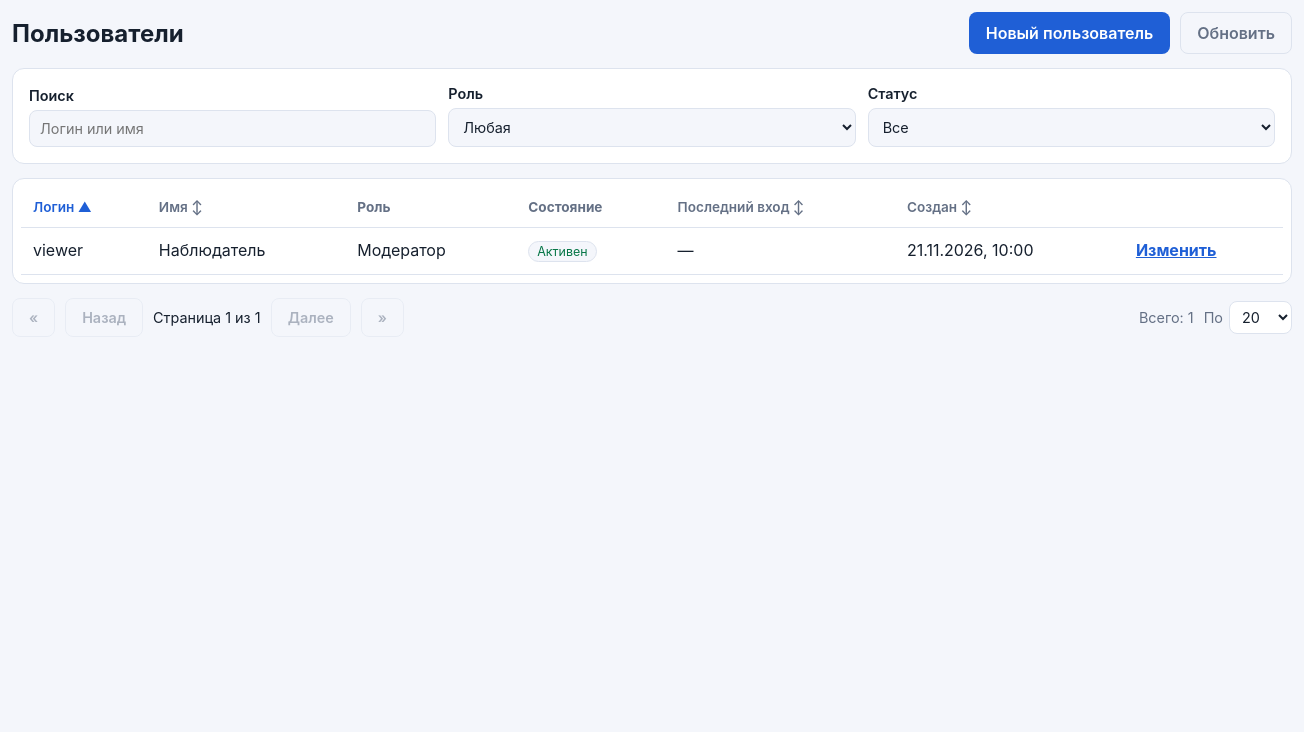
Test: после конфликта перечитывает пользователя и сохраняет с актуальной версией
Click the button "Изменить" at (1176, 250), box [1136,240,1216,260]
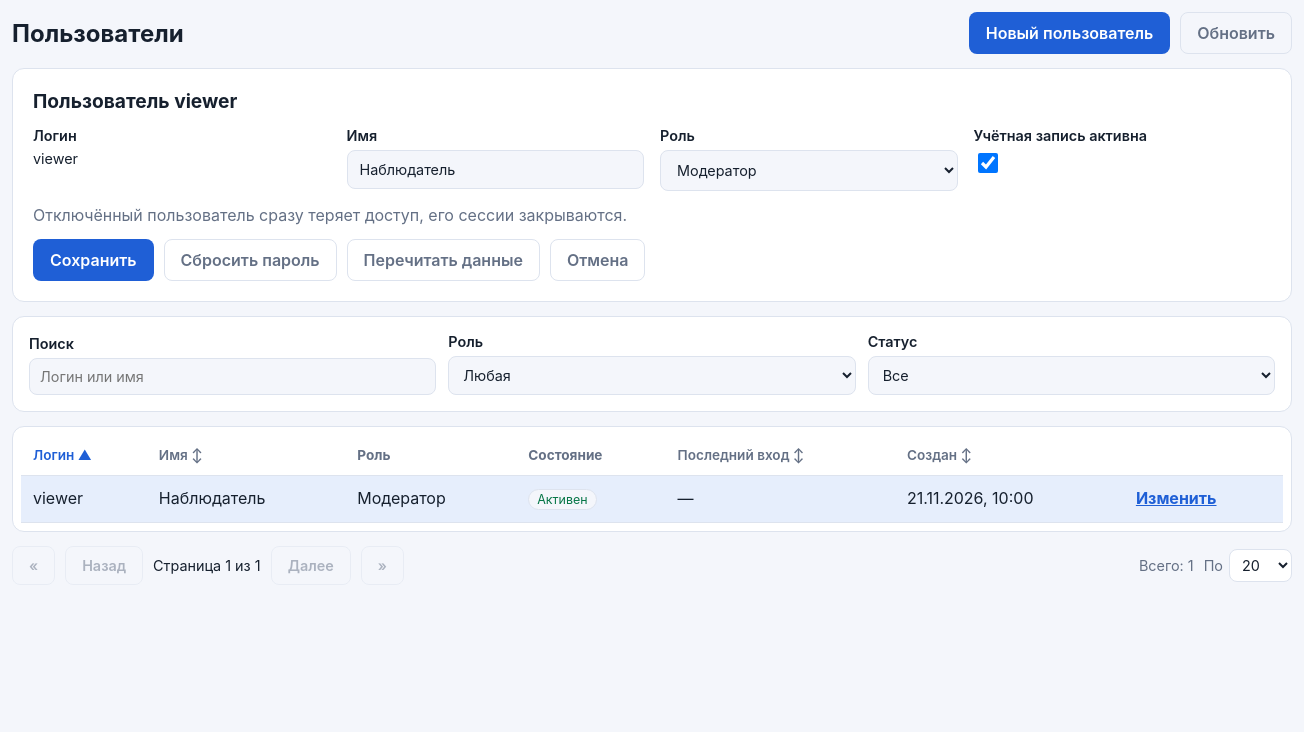
Submit the form, box [12,68,1292,302]
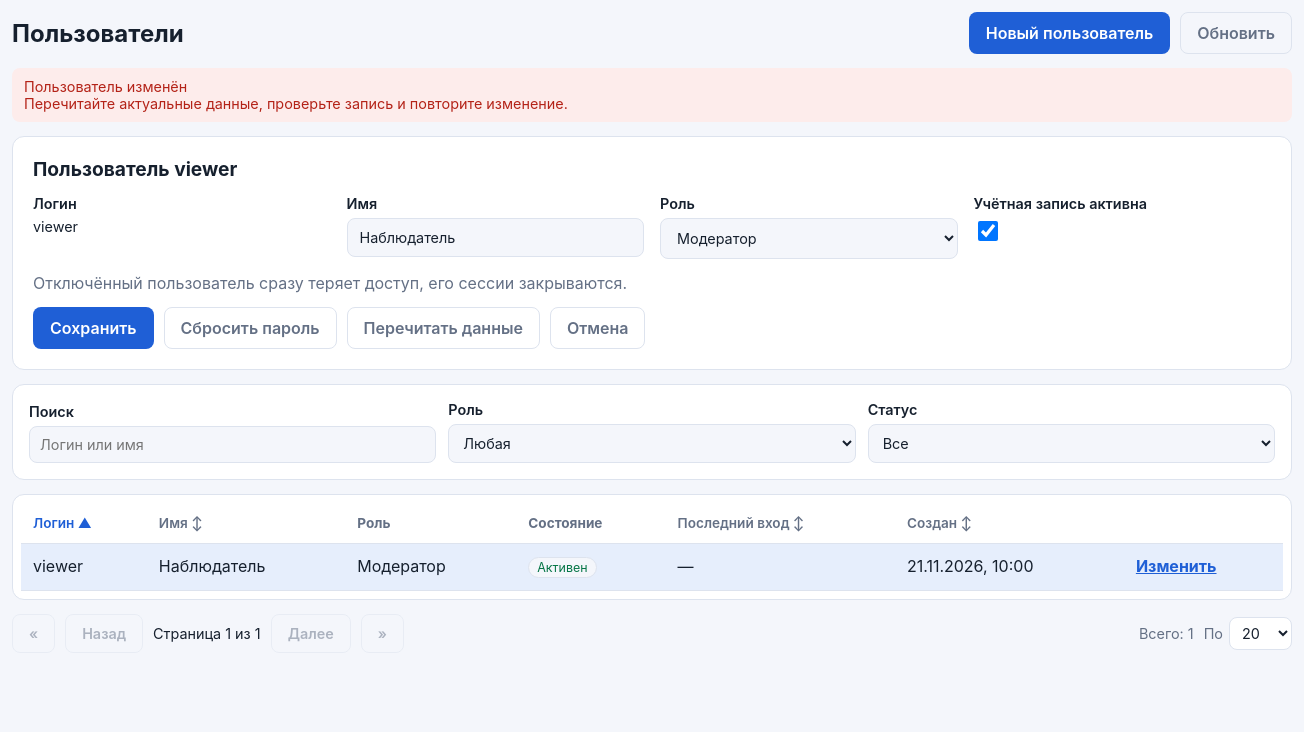
Expected: the message shows "Пользователь изменён", [24,78,187,95]
Click the button "Перечитать данные" at (443, 328), box [347,307,540,349]
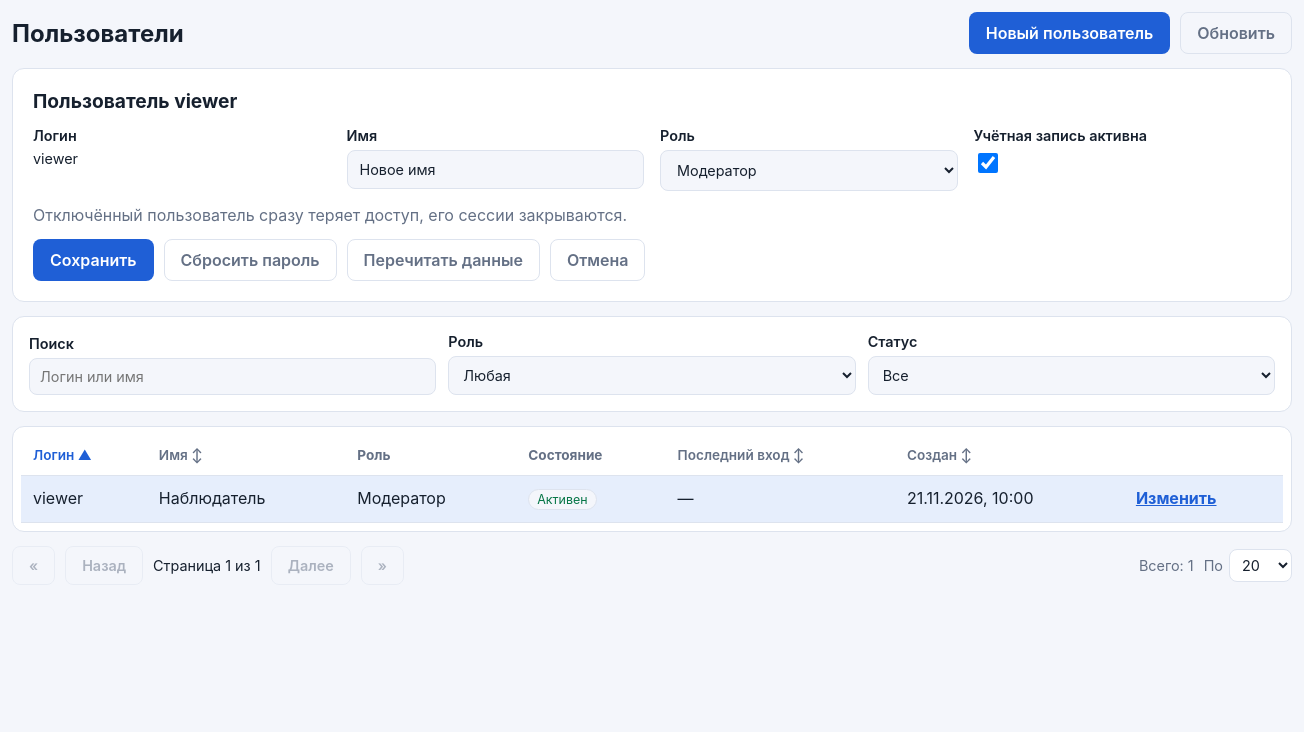
Expected: the field labelled "Имя" holds "Новое имя", [346,150,644,189]
Submit the form, box [12,68,1292,302]
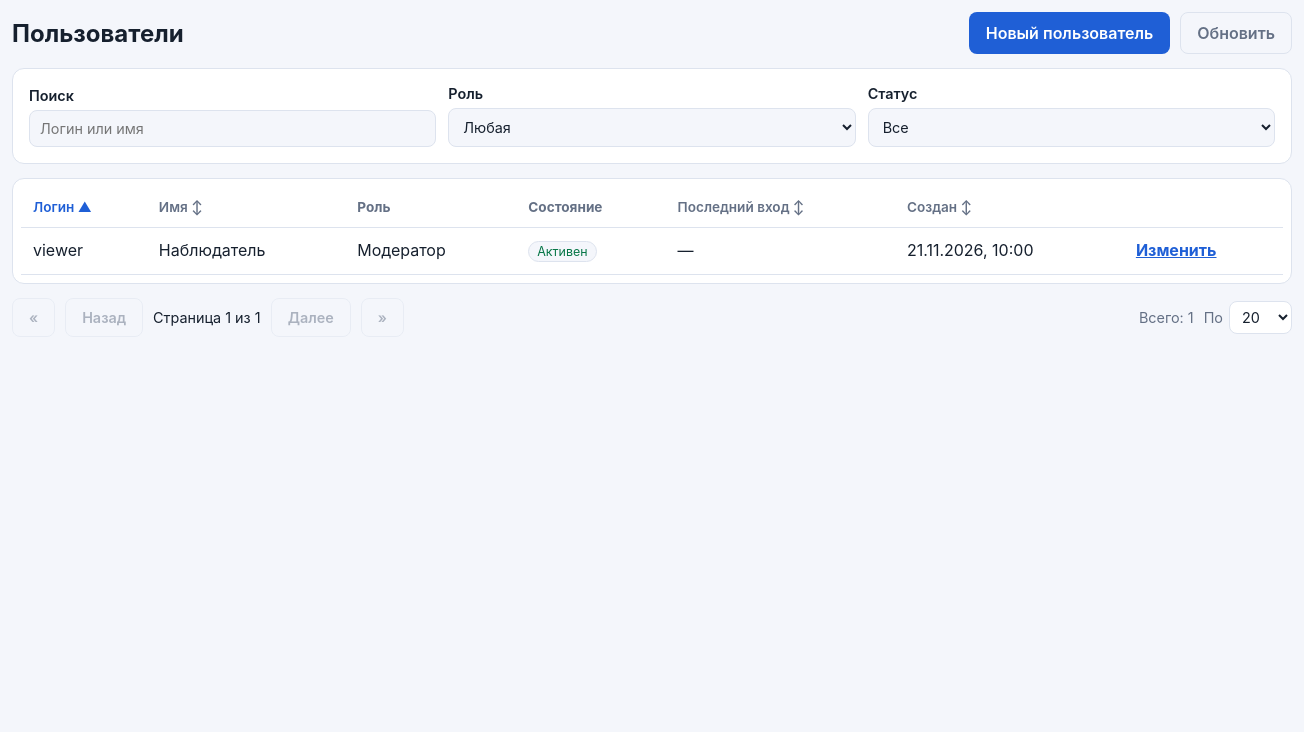
Expected: the form is gone
